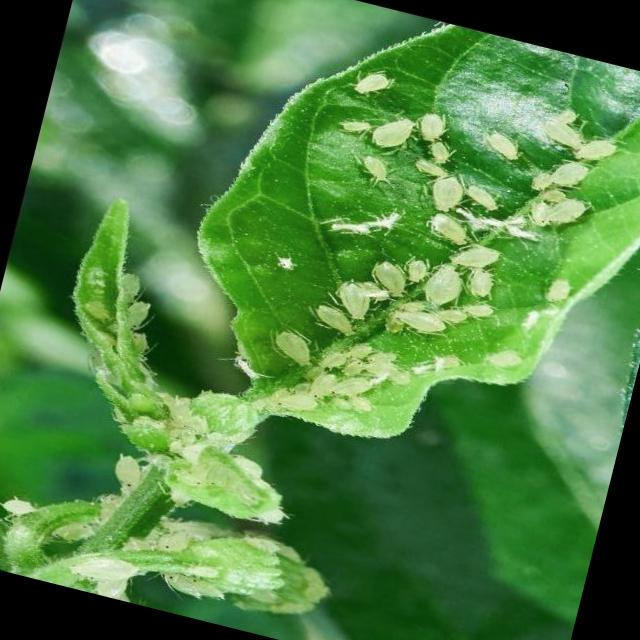aphid: (337, 55, 410, 111), (466, 119, 538, 175), (312, 266, 381, 324), (348, 246, 417, 302), (294, 294, 372, 342), (254, 320, 325, 370), (377, 294, 450, 342), (417, 257, 472, 313), (347, 147, 407, 196), (386, 238, 436, 293), (410, 204, 475, 246), (542, 149, 596, 197), (422, 165, 472, 214), (448, 234, 505, 275), (462, 260, 512, 304), (321, 106, 372, 146), (369, 110, 415, 154), (540, 192, 588, 234), (532, 268, 579, 310), (534, 113, 582, 150), (459, 177, 503, 217), (572, 132, 620, 168), (109, 451, 148, 491), (272, 385, 320, 417), (329, 370, 374, 404), (358, 351, 402, 384), (156, 523, 196, 558), (306, 370, 344, 404), (414, 108, 449, 144), (484, 344, 526, 374), (52, 516, 92, 546), (120, 296, 151, 332), (526, 198, 557, 229), (80, 297, 114, 325), (412, 157, 449, 180), (424, 138, 454, 166), (460, 298, 494, 322), (546, 104, 580, 128), (536, 184, 567, 208)
